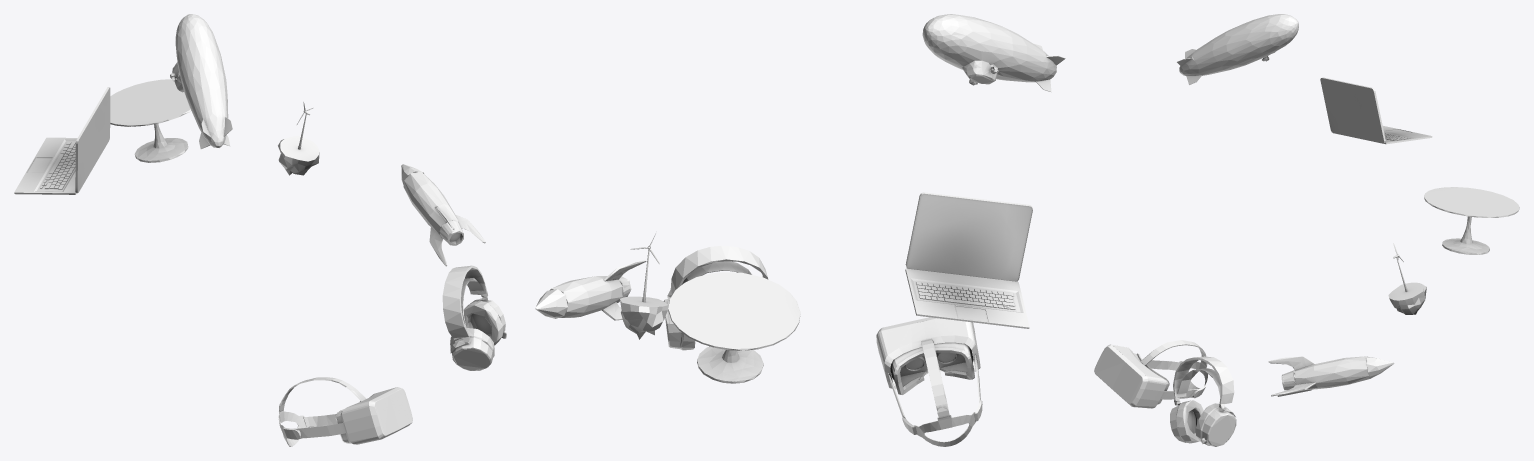
3 views of the same model, side by side, from view 1: azimuth 30°, elevation 25°; view 2: azimuth 150°, elevation 25°; view 3: azimuth 270°, elevation 25° (orthographic). The views are drawn at different scales.
Visible parts, largest first — view 1: Zeppelin, VR Headset, Headphones, Notebook, Table, Rocket.003, Roundcube.001; view 2: Notebook, Table, VR Headset, Zeppelin, Rocket.003, Headphones, Roundcube.001; view 3: Zeppelin, VR Headset, Headphones, Notebook, Table, Rocket.003, Roundcube.001.
Part boxes in pixels (left/top/right/bottom): Zeppelin: left=170, top=14, right=232, bottom=148; VR Headset: left=278, top=377, right=412, bottom=446; Headphones: left=442, top=265, right=506, bottom=370; Notebook: left=14, top=87, right=110, bottom=194; Table: left=110, top=79, right=191, bottom=162; Rocket.003: left=401, top=164, right=485, bottom=266; Roundcube.001: left=278, top=102, right=319, bottom=175; Notebook: left=905, top=192, right=1032, bottom=328; Table: left=668, top=272, right=800, bottom=383; VR Headset: left=876, top=317, right=982, bottom=446; Zeppelin: left=922, top=14, right=1065, bottom=91; Rocket.003: left=535, top=259, right=646, bottom=320; Headphones: left=663, top=245, right=768, bottom=350; Roundcube.001: left=620, top=233, right=668, bottom=339; Zeppelin: left=1177, top=14, right=1298, bottom=84; VR Headset: left=1094, top=340, right=1208, bottom=408; Headphones: left=1170, top=356, right=1236, bottom=446; Notebook: left=1320, top=77, right=1432, bottom=144; Table: left=1424, top=187, right=1519, bottom=254; Rocket.003: left=1268, top=356, right=1394, bottom=396; Roundcube.001: left=1388, top=243, right=1426, bottom=314.
Size of the model in its own units: 21.61 by 20.18 by 21.78.
Materials: 7 (7 with a texture image).
